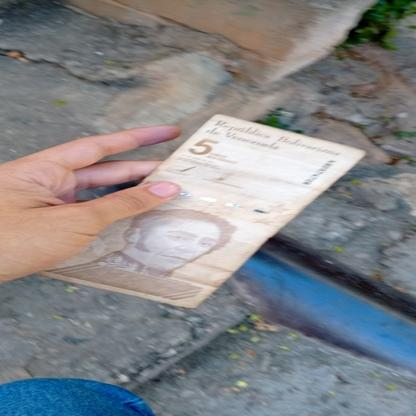five-front-vef: (37, 112, 366, 310)
